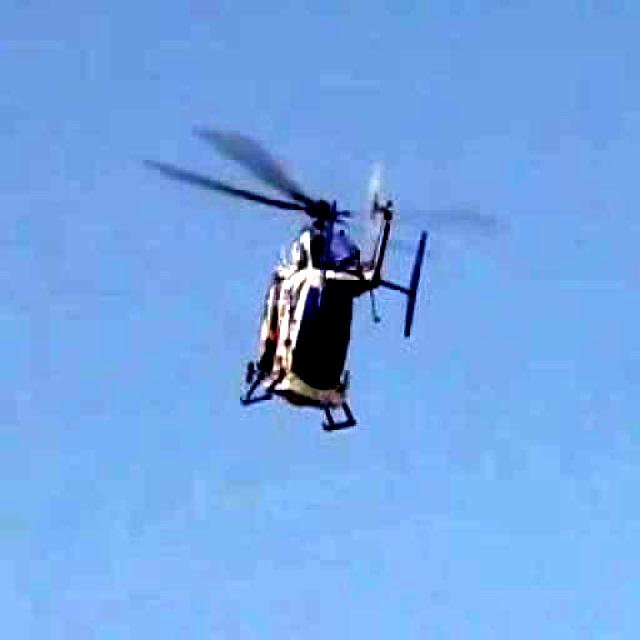drone: (138, 88, 514, 481)
